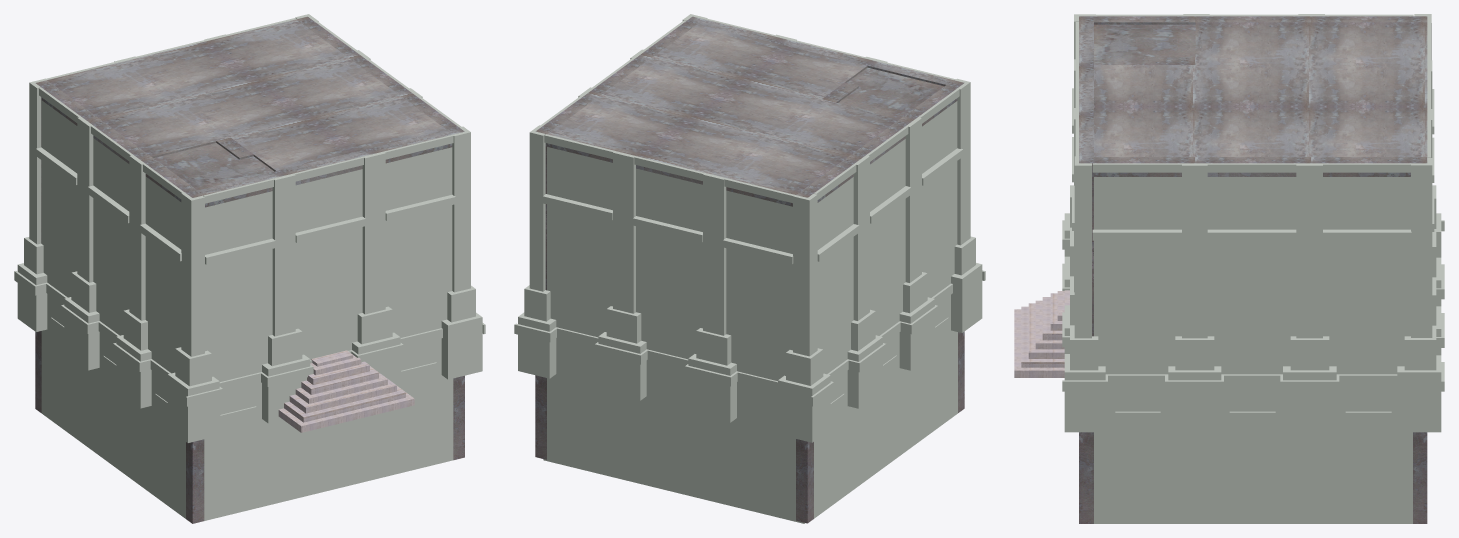
File: BagBuilding4_70.fbx
3 views of the same model, side by side, from view 1: azimuth 30°, elevation 25°; view 2: azimuth 150°, elevation 25°; view 3: azimuth 270°, elevation 25° (orthographic). The views are drawn at different scales.
Parts seen in each view (by area): view 1: mainA70, roof70, Box70, floorsB70, stairsB70, roofz70; view 2: mainA70, roof70, Box70, roofz70, box70; view 3: mainA70, roof70, Box70, roofz70, floorsB70, stairsB70.
Part boxes in pixels (x1,y1,x2,y2): mainA70: [14, 14, 485, 520]; roof70: [35, 16, 464, 523]; Box70: [51, 108, 436, 414]; floorsB70: [278, 356, 414, 431]; stairsB70: [278, 350, 414, 432]; roofz70: [154, 143, 273, 190]; mainA70: [514, 14, 985, 520]; roof70: [535, 16, 964, 523]; Box70: [563, 108, 948, 415]; roofz70: [838, 67, 943, 118]; box70: [543, 317, 948, 523]; mainA70: [1062, 14, 1444, 523]; roof70: [1079, 16, 1427, 523]; Box70: [1115, 177, 1391, 411]; roofz70: [1094, 24, 1195, 64]; floorsB70: [1014, 303, 1064, 376]; stairsB70: [1014, 290, 1069, 377].
Bounding box in the file's own units: 18.44 × 19.39 × 20.78.
